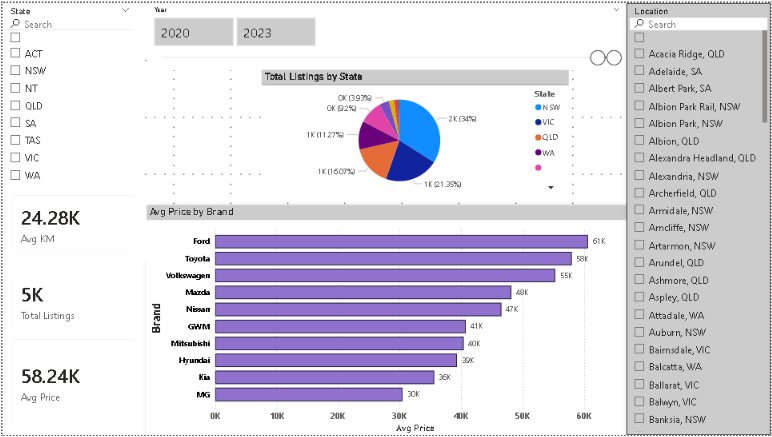

The page's visual inventory and layout, read from the dashboard file:
{"tool":"powerbi","page":{"name":"AU Car Prices Overview","canvas":[1280,720],"ordinal":0},"visuals":[{"type":"cardVisual","fields":{"Data":["Aus_cars.Total Listings"]},"box":[0,432,240,128],"z":0},{"type":"cardVisual","fields":{"Data":["Aus_cars.Avg Price"]},"box":[0,544,240,176],"z":1000},{"type":"clusteredBarChart","fields":{"Category":["Aus_cars.Brand"],"Y":["Aus_cars.Avg Price"]},"box":[240,336,800,384],"z":2000},{"type":"slicer","fields":{"Values":["Aus_cars.Year"]},"box":[240,0,800,112],"z":3000},{"type":"slicer","fields":{"Values":["Aus_cars.Location"]},"box":[1040,0,240,720],"z":4000},{"type":"cardVisual","fields":{"Data":["Aus_cars.Avg KM"]},"box":[0,304,240,128],"z":5000},{"type":"slicer","fields":{"Values":["Aus_cars.State"]},"box":[0,0,224,320],"z":6000},{"type":"pieChart","fields":{"Category":["Aus_cars.State"],"Y":["Aus_cars.Total Listings"]},"box":[432,112,512,208],"z":7000}]}

Visuals, with their boxes in screenshot pixels (x1, y1, x2, y2), scaled from the page's 1280x720 canvas onto the 772x437 screenshot:
cardVisual - Aus_cars.Total Listings: [left=0, top=262, right=145, bottom=340]
cardVisual - Aus_cars.Avg Price: [left=0, top=330, right=145, bottom=436]
clusteredBarChart - Aus_cars.Brand x Aus_cars.Avg Price: [left=145, top=204, right=627, bottom=436]
slicer - Aus_cars.Year: [left=145, top=0, right=627, bottom=68]
slicer - Aus_cars.Location: [left=627, top=0, right=771, bottom=436]
cardVisual - Aus_cars.Avg KM: [left=0, top=185, right=145, bottom=262]
slicer - Aus_cars.State: [left=0, top=0, right=135, bottom=194]
pieChart - Aus_cars.State x Aus_cars.Total Listings: [left=261, top=68, right=569, bottom=194]
